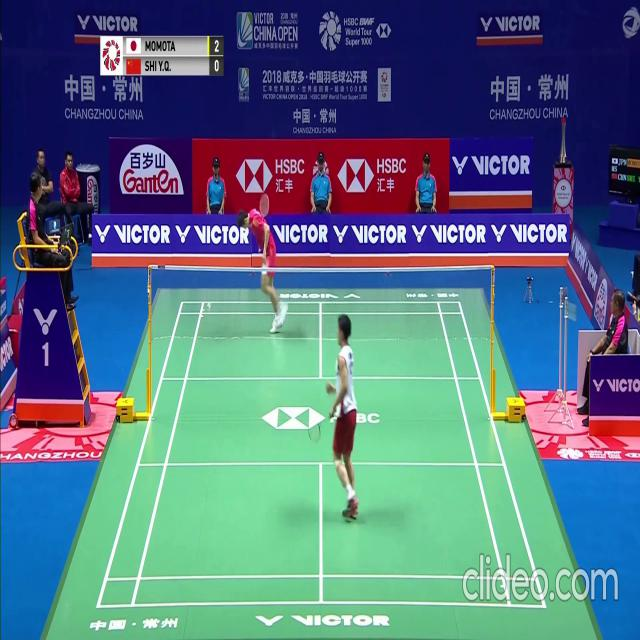Shuttlecock: (207, 300, 211, 308)
